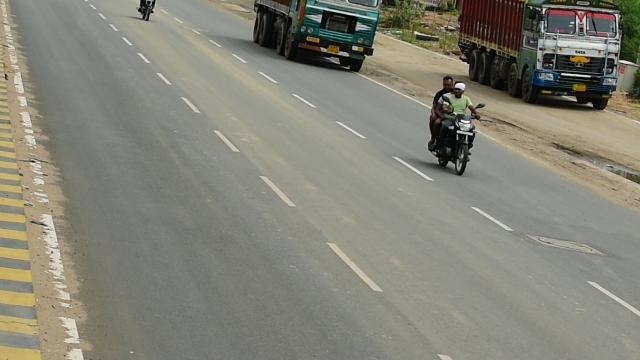Without Helmet: (439, 73, 455, 89), (454, 82, 466, 98)
